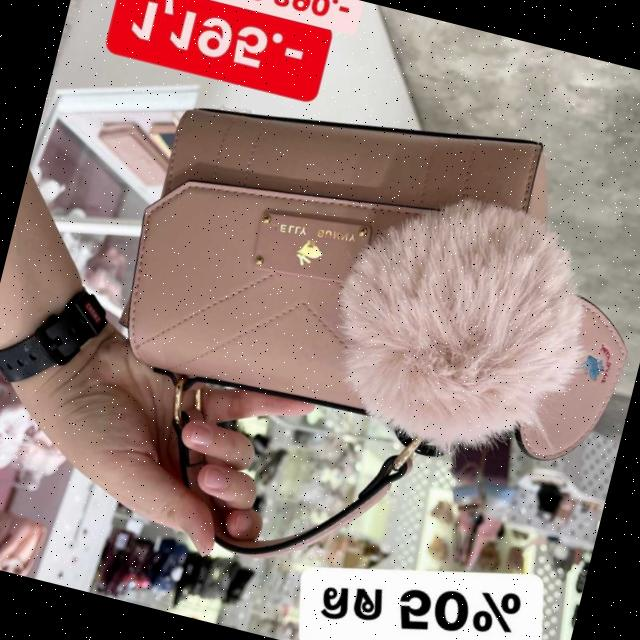Handbag: (85, 42, 600, 488)
